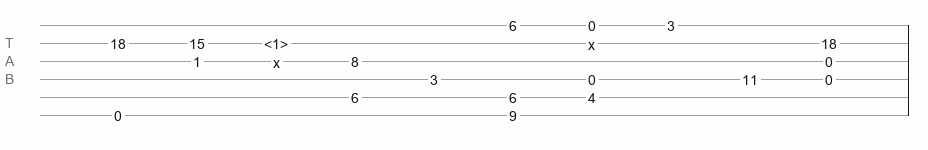0: (114, 108, 122, 118), (588, 18, 596, 28), (588, 72, 596, 82), (825, 54, 833, 64), (825, 72, 833, 82)
1: (193, 54, 201, 64)
11: (742, 72, 758, 82)
15: (189, 36, 205, 46)
18: (110, 36, 126, 46), (821, 36, 837, 46)
3: (430, 72, 438, 82), (667, 18, 675, 28)
4: (588, 90, 596, 100)
6: (351, 90, 359, 100), (509, 18, 517, 28), (509, 90, 517, 100)
8: (351, 54, 359, 64)
9: (509, 108, 517, 118)
harmonic: (264, 36, 288, 46)
x: (273, 55, 280, 63), (588, 37, 595, 45)
